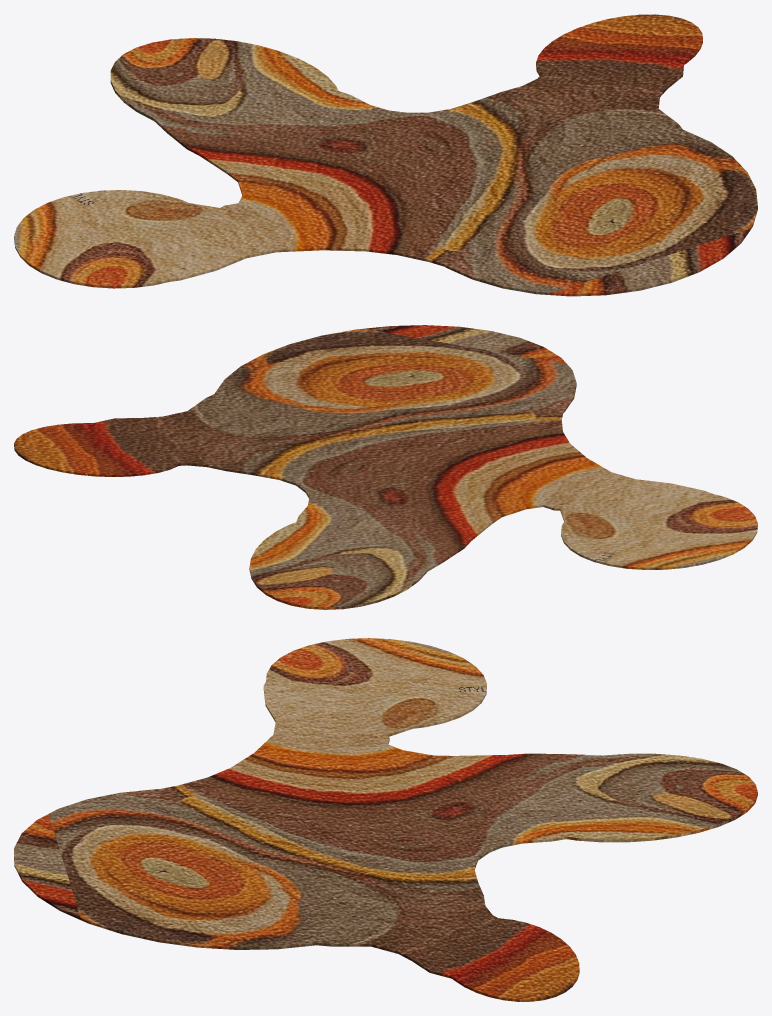
The model's file is brown carpet.glb.
3 views of the same model, one above another, from view 1: azimuth 30°, elevation 25°; view 2: azimuth 150°, elevation 25°; view 3: azimuth 270°, elevation 25° (orthographic). The views are drawn at different scales.
Parts seen in each view (by area): view 1: Plane.012; view 2: Plane.012; view 3: Plane.012.
Boxes of the visible parts, x1,y1,x2,y2 form: Plane.012: (14, 14, 757, 296); Plane.012: (14, 325, 757, 609); Plane.012: (14, 638, 757, 1001).
Bounding box in the file's own units: 11.64 × 0.0404 × 10.12.
1 material, 1 textured.
